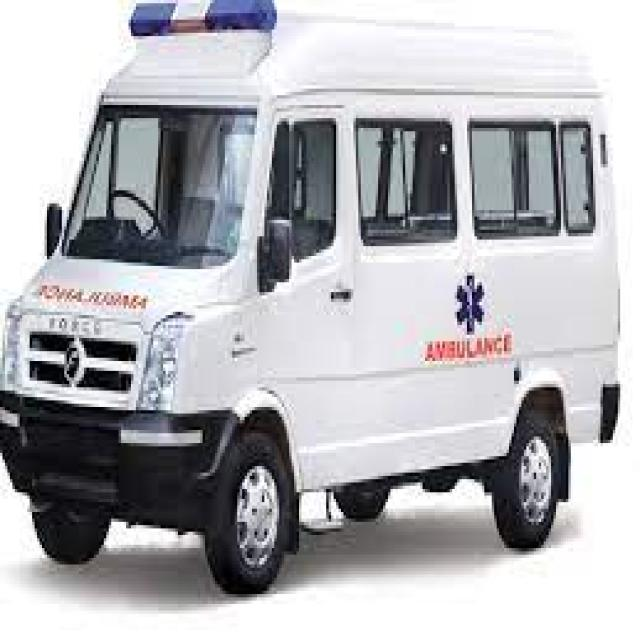Ambulance: (10, 4, 616, 573)
